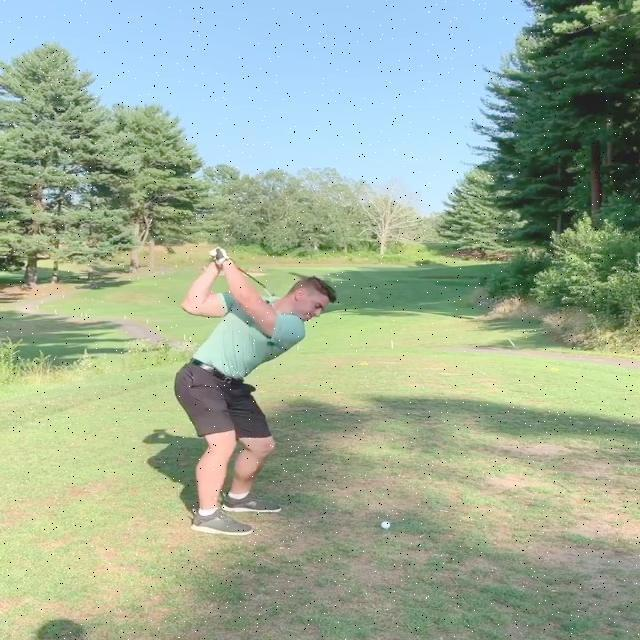GolfBall: (382, 521, 392, 530)
